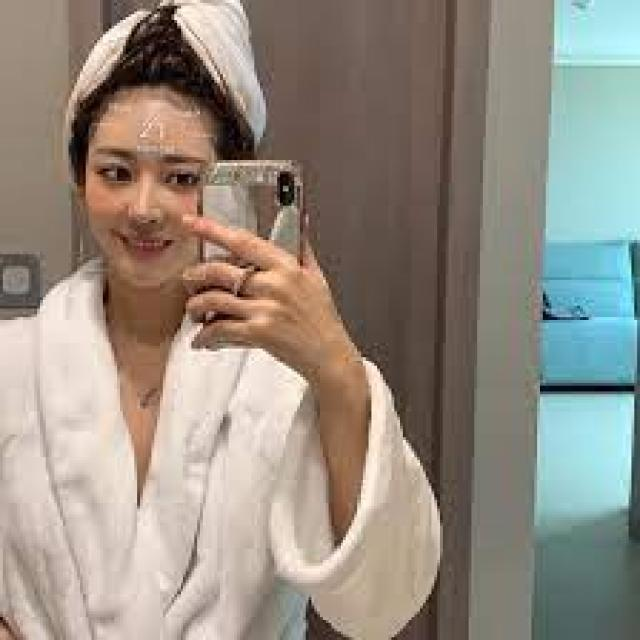Phone: (198, 158, 306, 326)
